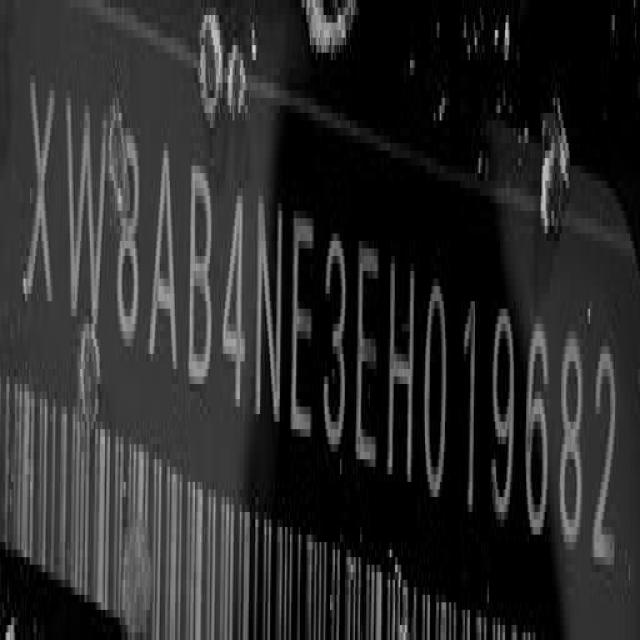0: (424, 268, 449, 511)
1: (463, 290, 481, 525)
2: (594, 348, 621, 580)
3: (324, 223, 348, 468)
4: (222, 184, 248, 418)
6: (526, 313, 551, 543)
8: (559, 330, 586, 558), (116, 120, 140, 358)
9: (492, 306, 518, 532)
A: (151, 155, 180, 380)
B: (190, 162, 213, 397)
E: (353, 218, 379, 480), (292, 216, 316, 449)
H: (390, 250, 418, 496)
N: (254, 192, 286, 434)
W: (64, 84, 106, 339)
X: (26, 68, 55, 326)
